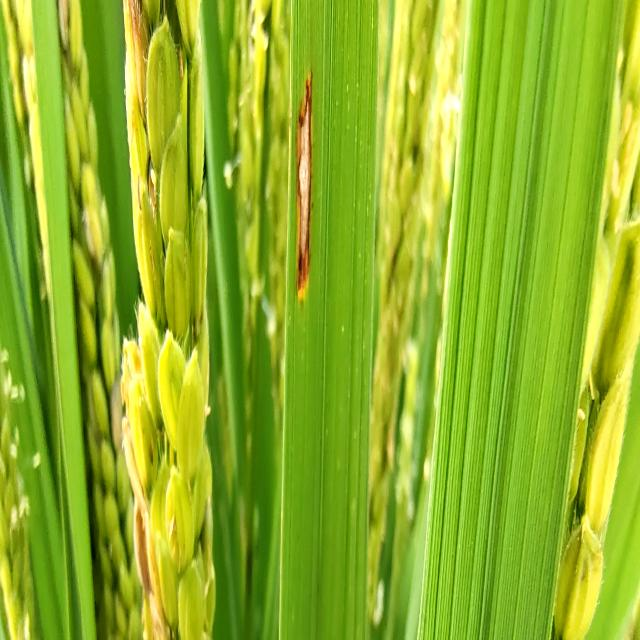LEAF BLAST: (296, 73, 312, 297)
